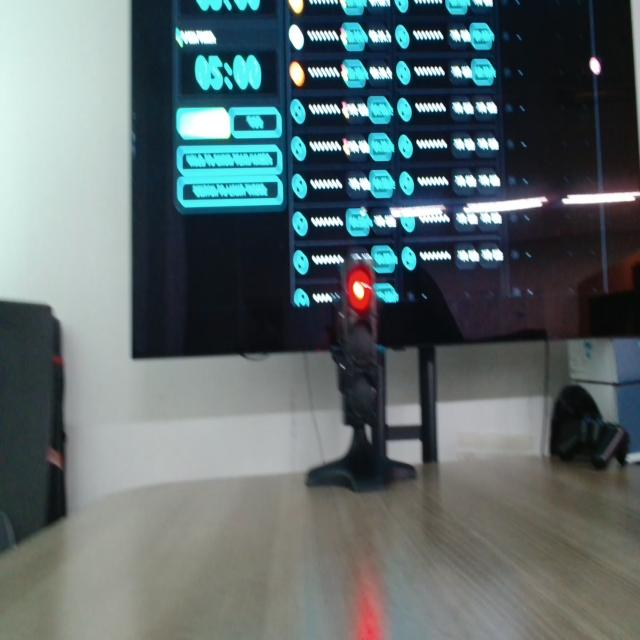red_light: (347, 268, 372, 313)
